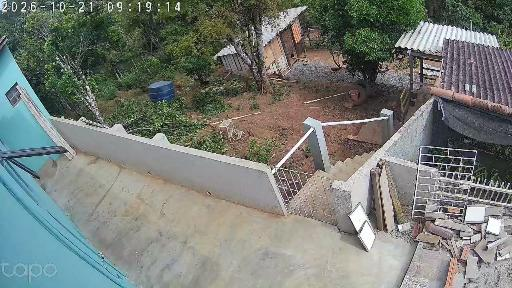galinha: (391, 101, 398, 109), (176, 81, 181, 90)
